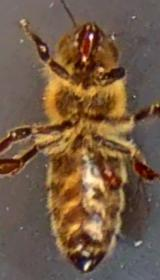varroa_mite: (90, 159, 138, 198)
